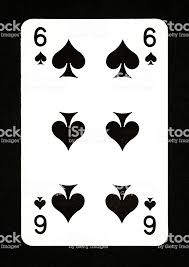six of spades: (20, 18, 172, 248)
